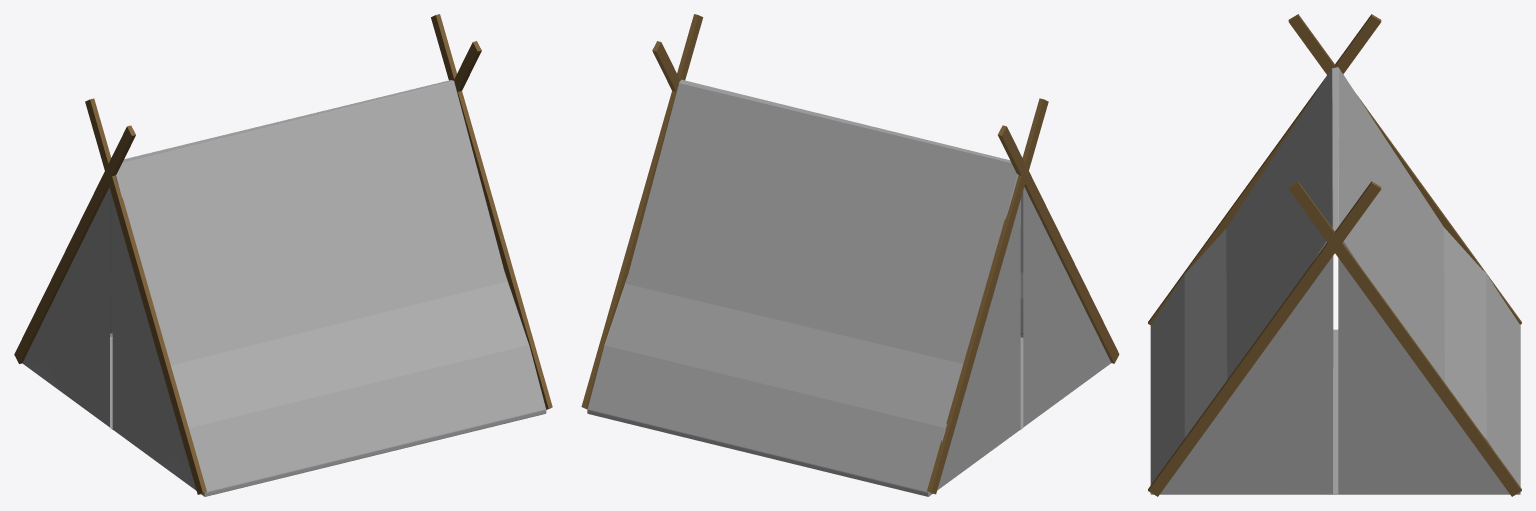
Rendered from tent.fbx.
3 renders of one model, left to right at view 1: azimuth 30°, elevation 25°; view 2: azimuth 150°, elevation 25°; view 3: azimuth 270°, elevation 25°, orthographic.
Visible parts, largest first — view 1: tent, wood2, wood3, wood1, wood; view 2: tent, wood1, wood, wood2, wood3; view 3: tent, wood3, wood, wood2, wood1.
Part boxes in pixels (<box>): tent: <box>22,80,546,496</box>; wood2: <box>85,98,206,494</box>; wood3: <box>431,14,552,409</box>; wood1: <box>14,125,135,363</box>; wood: <box>454,41,481,91</box>; tent: <box>587,79,1111,496</box>; wood1: <box>927,98,1048,494</box>; wood: <box>581,14,703,409</box>; wood2: <box>998,125,1119,363</box>; wood3: <box>652,41,680,91</box>; tent: <box>1150,67,1520,494</box>; wood3: <box>1148,181,1381,496</box>; wood: <box>1288,181,1521,496</box>; wood2: <box>1148,14,1381,325</box>; wood1: <box>1288,14,1521,324</box>.
Bounding box in the file's own units: 6.16 × 5.33 × 5.75.
